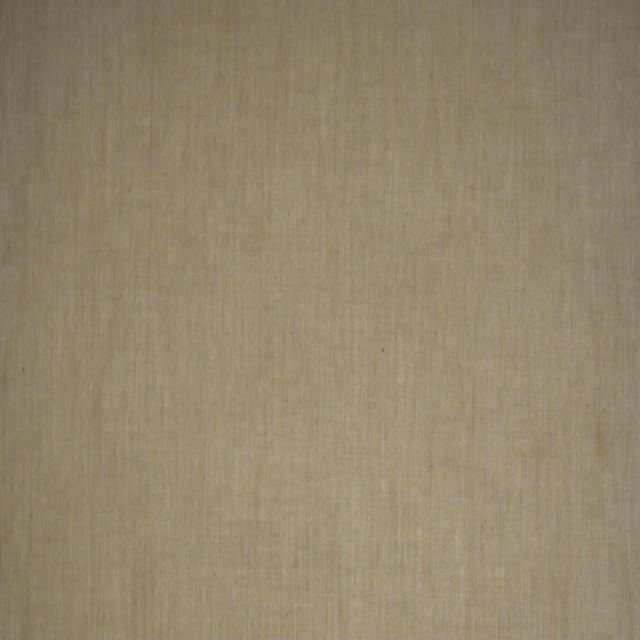dirty: (594, 423, 606, 461)
